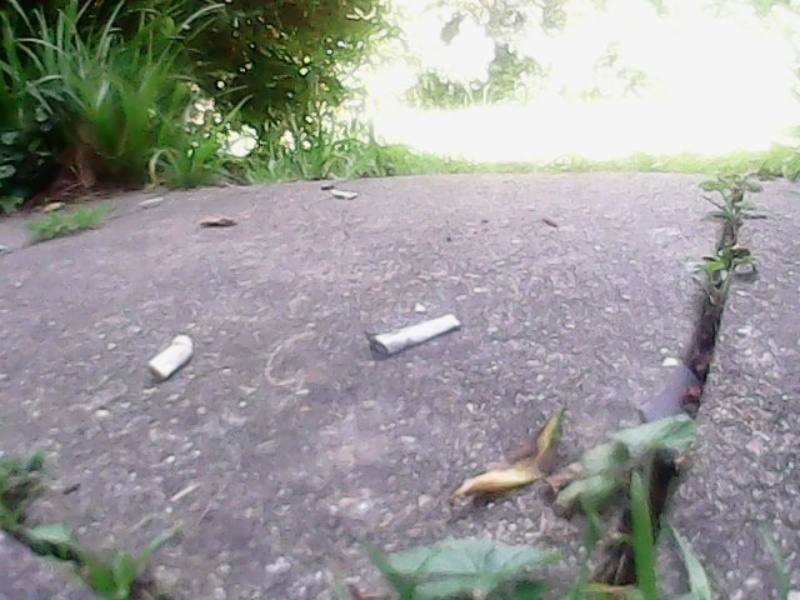cig: (366, 301, 464, 359), (147, 325, 192, 388), (324, 185, 360, 206), (198, 213, 234, 231)
